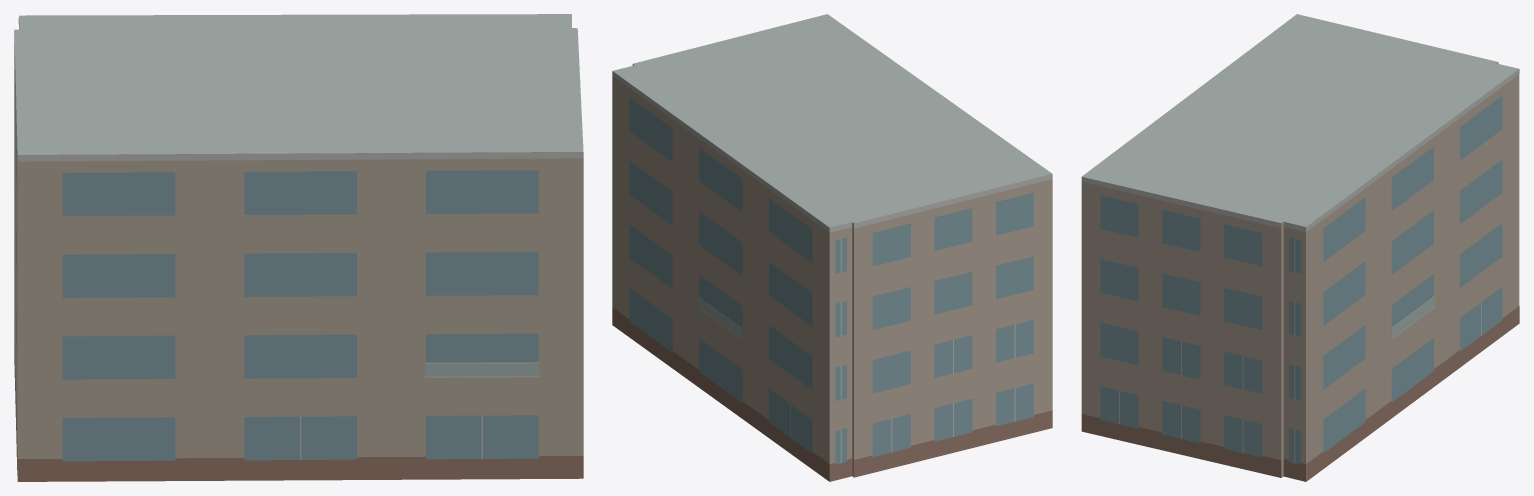
Rendered from survey-upis-32657225.glb.
The picture shows the model from 3 angles, left to right: view 1: azimuth 30°, elevation 25°; view 2: azimuth 150°, elevation 25°; view 3: azimuth 270°, elevation 25°; orthographic projection. The views are drawn at different scales.
Visible parts, largest first — view 1: survey-upis-32657225.tmp; view 2: survey-upis-32657225.tmp; view 3: survey-upis-32657225.tmp.
Boxes of the visible parts, x1=… form: survey-upis-32657225.tmp: x1=14, y1=14, x2=583, y2=481; survey-upis-32657225.tmp: x1=612, y1=14, x2=1052, y2=481; survey-upis-32657225.tmp: x1=1081, y1=14, x2=1519, y2=481.
Bounding box in the file's own units: 21.9 × 12.2 × 19.01.
